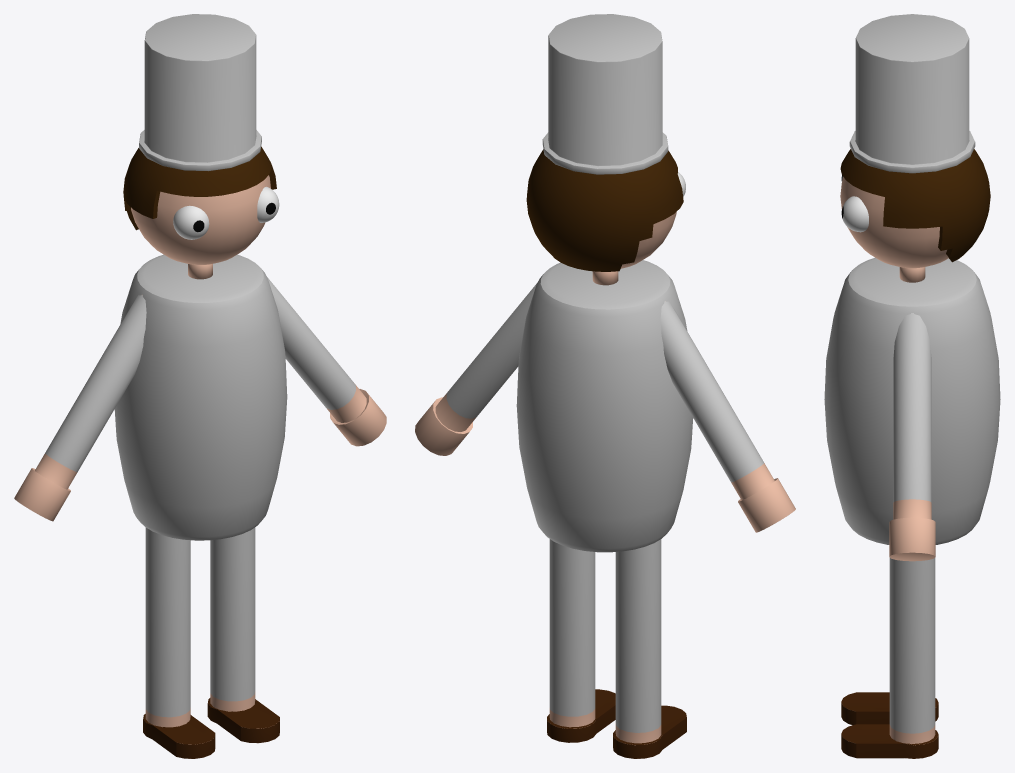
The model's file is player.fbx.
3 views of the same model, side by side, from view 1: azimuth 30°, elevation 25°; view 2: azimuth 150°, elevation 25°; view 3: azimuth 270°, elevation 25° (orthographic). The views are drawn at different scales.
Visible parts, largest first — view 1: Body, Hat, Head, Leg_L, Leg_R, Arm_L, Arm_R, Eyes; view 2: Body, Hat, Head, Leg_L, Leg_R, Arm_L, Arm_R; view 3: Body, Hat, Head, Leg_R, Arm_R, Leg_L, Eyes, Neckle.
Part boxes in pixels (x1=…): Body: x1=114, y1=254, x2=287, y2=540; Hat: x1=139, y1=14, x2=261, y2=171; Head: x1=123, y1=146, x2=276, y2=264; Leg_L: x1=143, y1=527, x2=215, y2=758; Leg_R: x1=207, y1=527, x2=279, y2=743; Arm_L: x1=14, y1=295, x2=146, y2=521; Arm_R: x1=267, y1=277, x2=386, y2=446; Eyes: x1=173, y1=186, x2=279, y2=239; Body: x1=516, y1=260, x2=693, y2=552; Hat: x1=542, y1=14, x2=668, y2=174; Head: x1=526, y1=149, x2=683, y2=271; Leg_L: x1=613, y1=539, x2=686, y2=758; Leg_R: x1=547, y1=539, x2=615, y2=742; Arm_L: x1=660, y1=301, x2=795, y2=532; Arm_R: x1=415, y1=283, x2=536, y2=455; Body: x1=824, y1=257, x2=1000, y2=544; Hat: x1=849, y1=14, x2=975, y2=173; Head: x1=840, y1=149, x2=990, y2=268; Leg_R: x1=841, y1=558, x2=938, y2=758; Arm_R: x1=889, y1=313, x2=935, y2=561; Leg_L: x1=841, y1=692, x2=938, y2=725; Eyes: x1=841, y1=175, x2=868, y2=232; Neckle: x1=899, y1=267, x2=925, y2=282.
Bounding box in the file's own units: 241 × 433 × 99.45.
